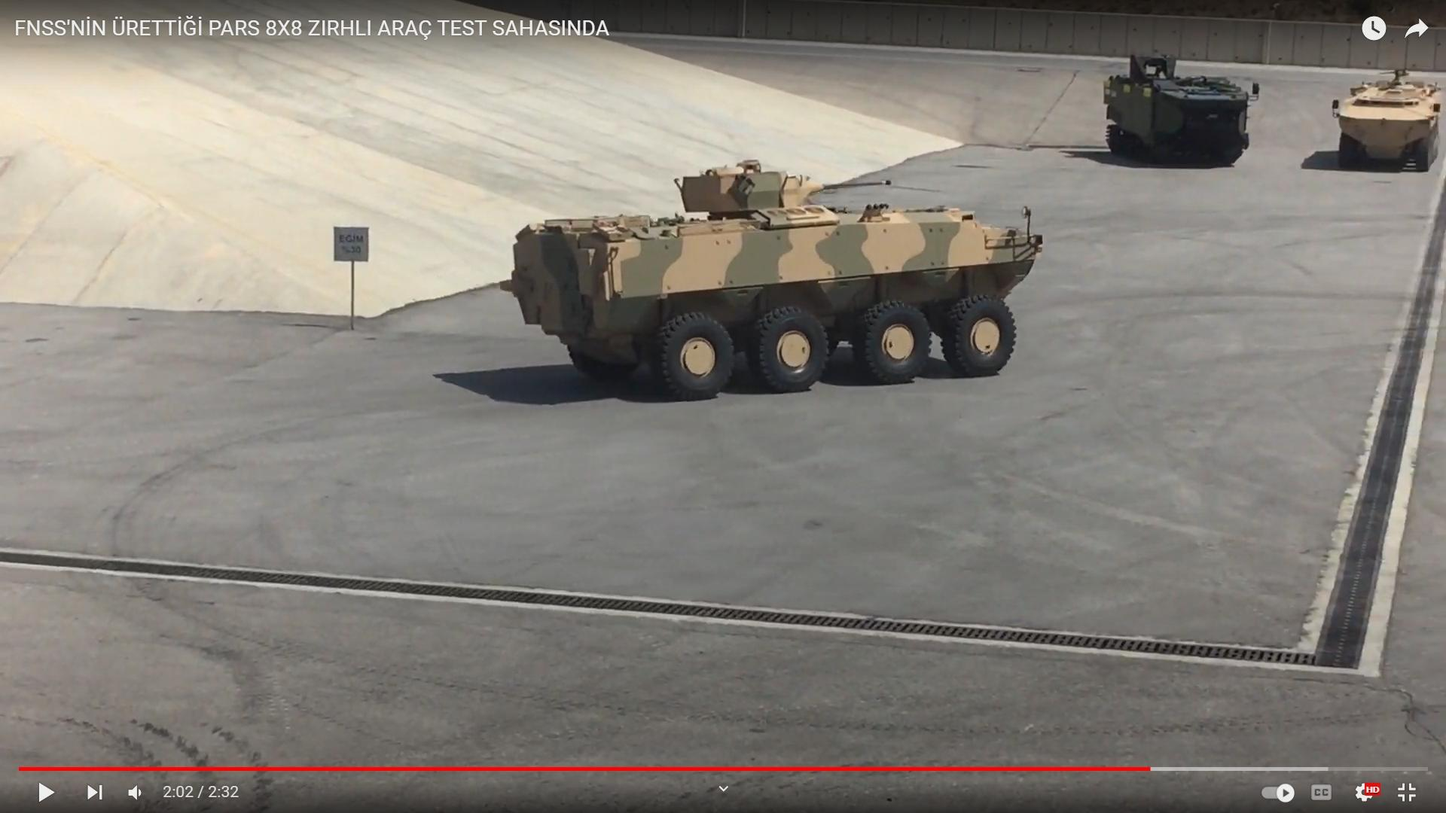armored_car: (504, 157, 1044, 402), (1322, 61, 1446, 178)
